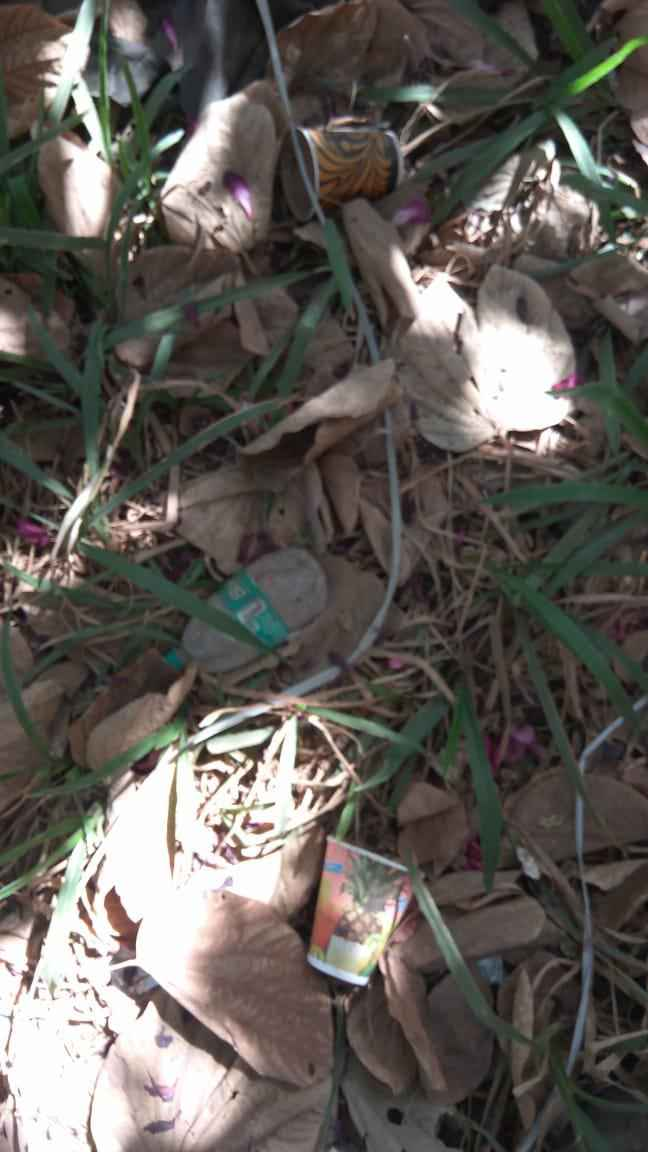Bisleri: (223, 575, 299, 644)
